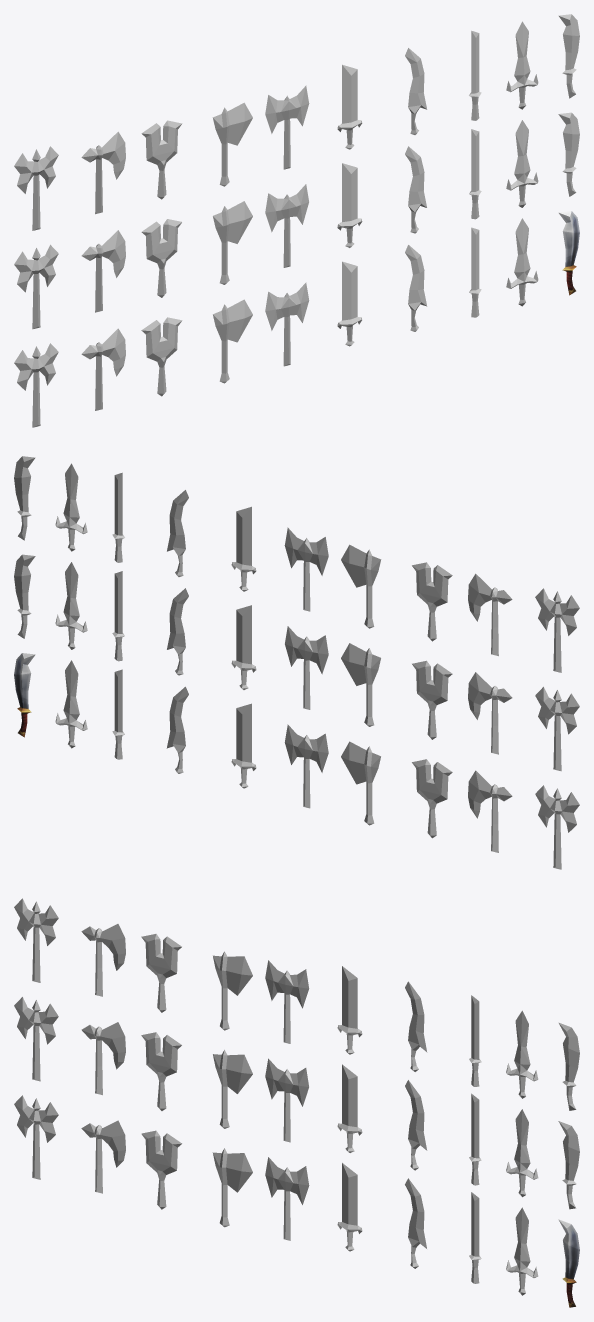
Rendered from BM_Weapons_01.FBX.
3 renders of one model, top to bottom at view 1: azimuth 30°, elevation 25°; view 2: azimuth 150°, elevation 25°; view 3: azimuth 330°, elevation 25°, orthographic.
Parts seen in each view (by area): view 1: Weapon_Axe_13, Weapon_Axe_15, Weapon_Axe_14, Weapon_Axe_03, Weapon_Axe_02, Weapon_Axe_01, Weapon_Axe_07, Weapon_Axe_08, Weapon_Axe_09, Weapon_Axe_06, Weapon_Axe_05, Weapon_Axe_04 (+18 smaller); view 2: Weapon_Axe_13, Weapon_Axe_15, Weapon_Axe_14, Weapon_Axe_03, Weapon_Axe_02, Weapon_Axe_01, Weapon_Axe_07, Weapon_Axe_08, Weapon_Axe_09, Weapon_Axe_06, Weapon_Axe_05, Weapon_Axe_04 (+18 smaller); view 3: Weapon_Axe_15, Weapon_Axe_13, Weapon_Axe_14, Weapon_Axe_01, Weapon_Axe_07, Weapon_Axe_02, Weapon_Axe_09, Weapon_Axe_08, Weapon_Axe_03, Weapon_Axe_06, Weapon_Axe_04, Weapon_Axe_05 (+18 smaller).
Boxes of the visible parts, x1,y1,x2,y2 form: Weapon_Axe_13: [14, 343, 58, 427]; Weapon_Axe_15: [14, 146, 58, 230]; Weapon_Axe_14: [14, 244, 58, 329]; Weapon_Axe_03: [265, 85, 309, 169]; Weapon_Axe_02: [265, 184, 308, 267]; Weapon_Axe_01: [265, 282, 309, 366]; Weapon_Axe_07: [141, 317, 182, 396]; Weapon_Axe_08: [141, 219, 181, 297]; Weapon_Axe_09: [141, 120, 182, 199]; Weapon_Axe_06: [212, 102, 252, 186]; Weapon_Axe_05: [213, 201, 252, 284]; Weapon_Axe_04: [213, 299, 252, 383]; Weapon_Axe_13: [535, 785, 579, 869]; Weapon_Axe_15: [535, 588, 579, 672]; Weapon_Axe_14: [535, 686, 579, 771]; Weapon_Axe_03: [284, 527, 328, 611]; Weapon_Axe_02: [285, 626, 328, 709]; Weapon_Axe_01: [284, 724, 328, 808]; Weapon_Axe_07: [412, 759, 452, 838]; Weapon_Axe_08: [412, 660, 452, 739]; Weapon_Axe_09: [412, 562, 452, 641]; Weapon_Axe_06: [341, 544, 381, 628]; Weapon_Axe_05: [341, 643, 380, 726]; Weapon_Axe_04: [341, 741, 380, 825]; Weapon_Axe_15: [14, 898, 58, 982]; Weapon_Axe_13: [14, 1095, 58, 1179]; Weapon_Axe_14: [14, 997, 58, 1081]; Weapon_Axe_01: [265, 1157, 309, 1240]; Weapon_Axe_07: [141, 1130, 181, 1209]; Weapon_Axe_02: [265, 1058, 308, 1142]; Weapon_Axe_09: [141, 934, 181, 1012]; Weapon_Axe_08: [141, 1032, 181, 1110]; Weapon_Axe_03: [265, 960, 309, 1043]; Weapon_Axe_06: [213, 951, 252, 1030]; Weapon_Axe_04: [212, 1148, 252, 1227]; Weapon_Axe_05: [213, 1050, 252, 1128].
Bounding box in the file's own units: 1.81 × 0.8928 × 0.041.
